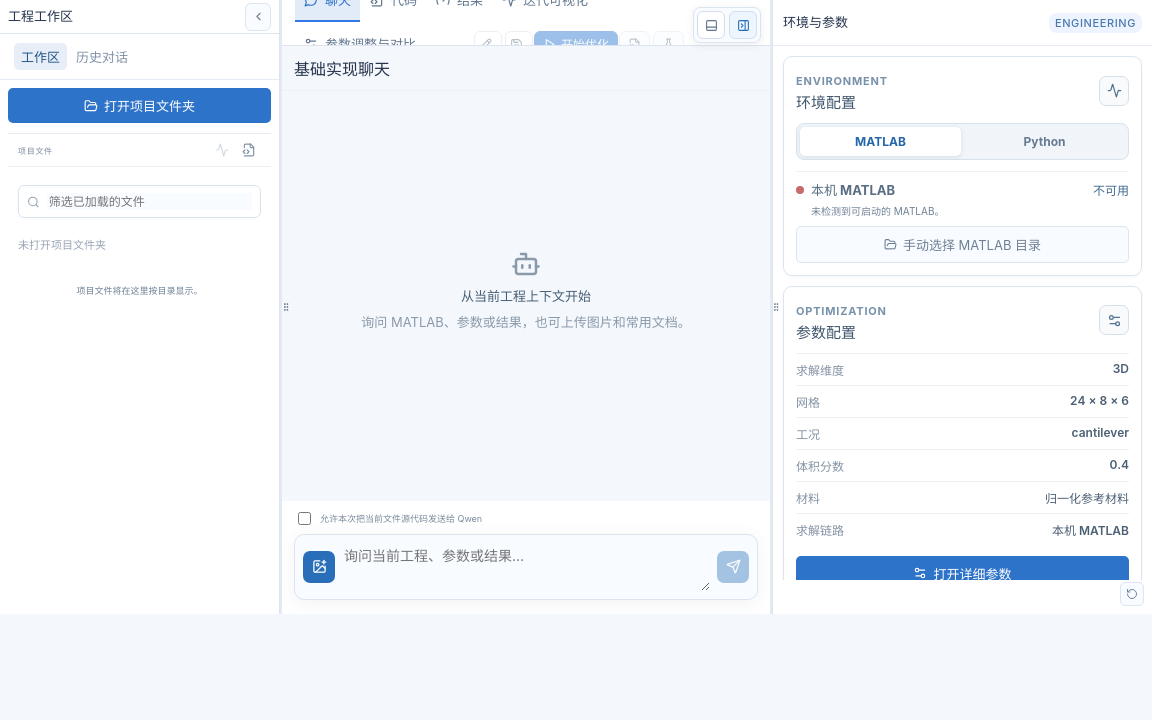
Test case: EngineeringWorkspace mount › offers explicit 2D and 3D parameter modes in the workspace-wide dialog
The image size is (1152, 720).
Click the button named "打开参数配置". click: x=1114, y=320
box: [1099, 305, 1129, 335]
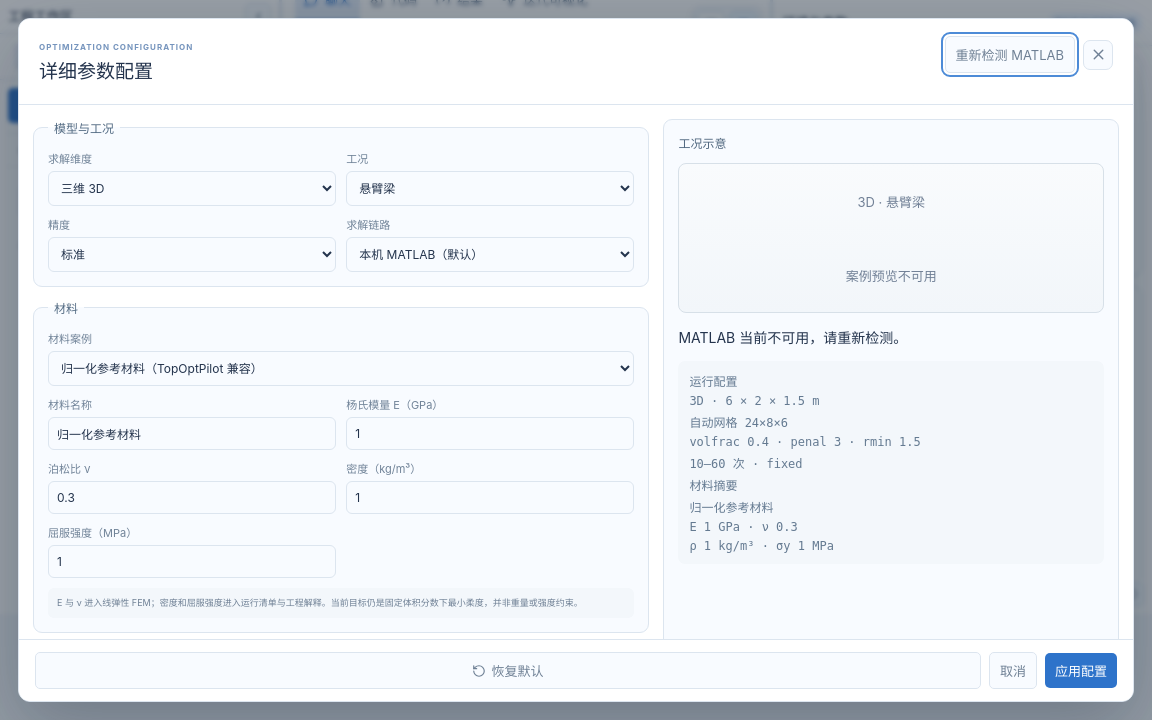
expect the dropdown labelled "求解维度" shows "三维 3D": met
Select "二维 2D" in the dropdown labelled "求解维度". click: x=192, y=188
box: [48, 171, 336, 206]
(page scrolled)
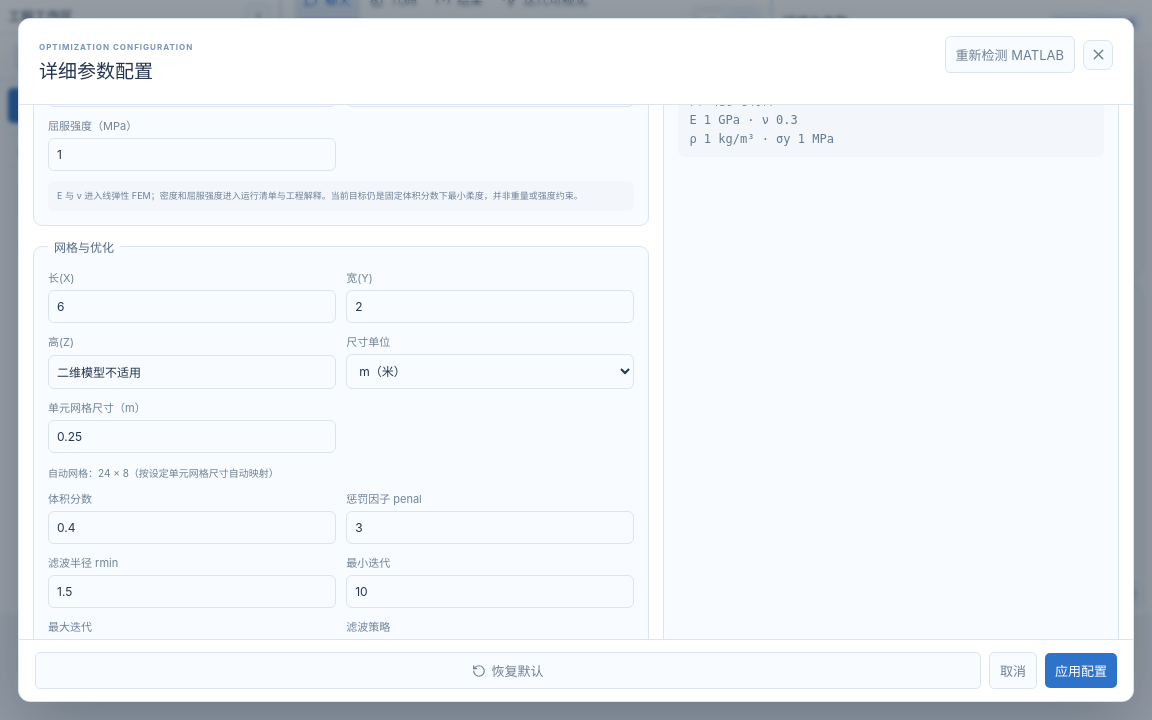
expect the field labelled "高(Z)" holds "二维模型不适用": met, box [48, 354, 336, 388]
